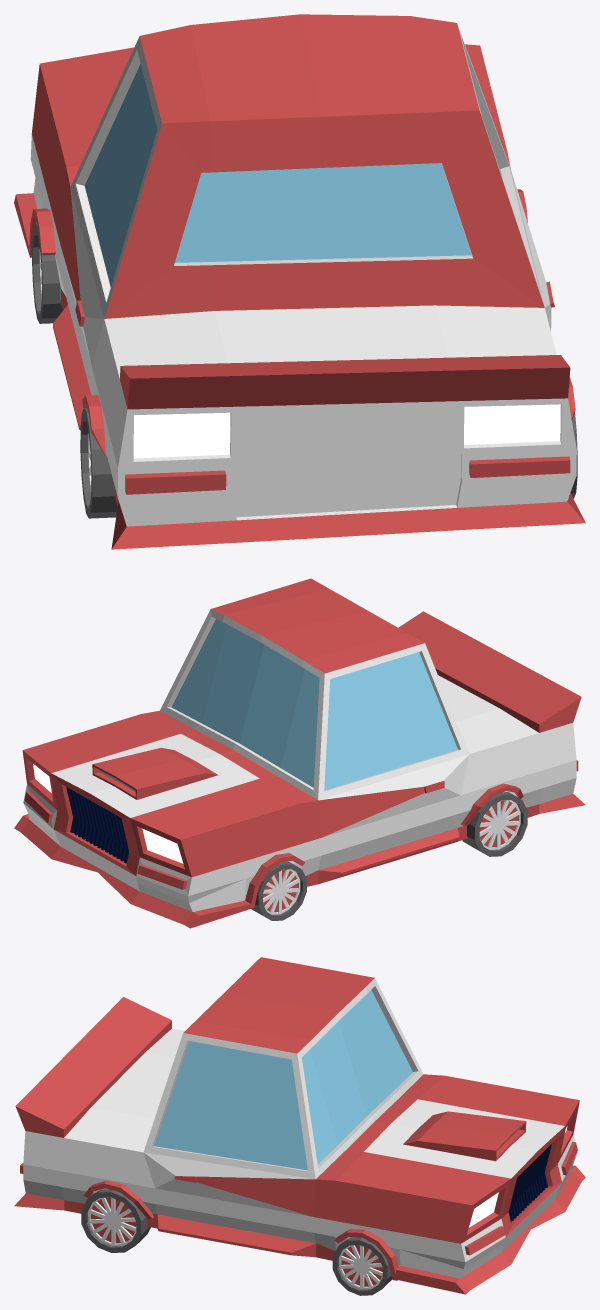
The model's file is Car_2.fbx.
3 renders of one model, top to bottom at view 1: azimuth 30°, elevation 25°; view 2: azimuth 150°, elevation 25°; view 3: azimuth 270°, elevation 25°, orthographic. The views are drawn at different scales.
Parts seen in each view (by area): view 1: body, backlight, wheel_1, wheel1_1, front_fender, rear_fender; view 2: body, wheel_1, lattice_1, wheel1_1, headlight, front_fender, rear_fender; view 3: body, wheel_1, wheel1_1, lattice_1, front_fender, rear_fender, headlight.
Boxes of the visible parts, x1,y1,x2,y2 form: body: (14,14,585,549); backlight: (133,404,560,458); wheel_1: (80,407,577,518); wheel1_1: (32,222,63,323); front_fender: (29,189,527,257); rear_fender: (82,377,575,456); body: (14,578,585,928); wheel_1: (462,792,527,856); lattice_1: (66,787,128,863); wheel1_1: (251,861,306,920); headlight: (33,763,183,863); front_fender: (245,853,304,908); rear_fender: (461,783,523,825); body: (14,957,585,1294); wheel_1: (81,1189,150,1252); wheel1_1: (332,1237,392,1295); lattice_1: (508,1144,551,1222); front_fender: (334,1229,398,1280); rear_fender: (83,1180,153,1219); headlight: (469,1126,567,1227).
Size of the model in its own units: 216 by 111 by 264.
